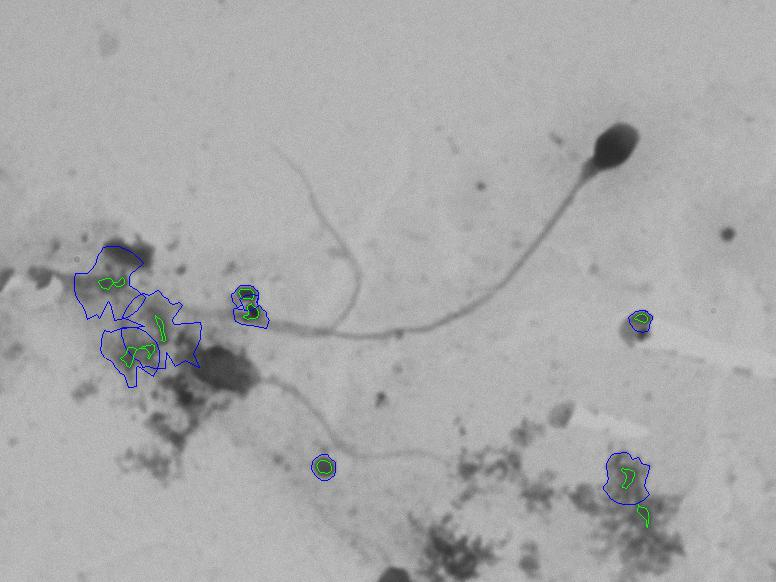Abnormal: (415, 66, 681, 273)
